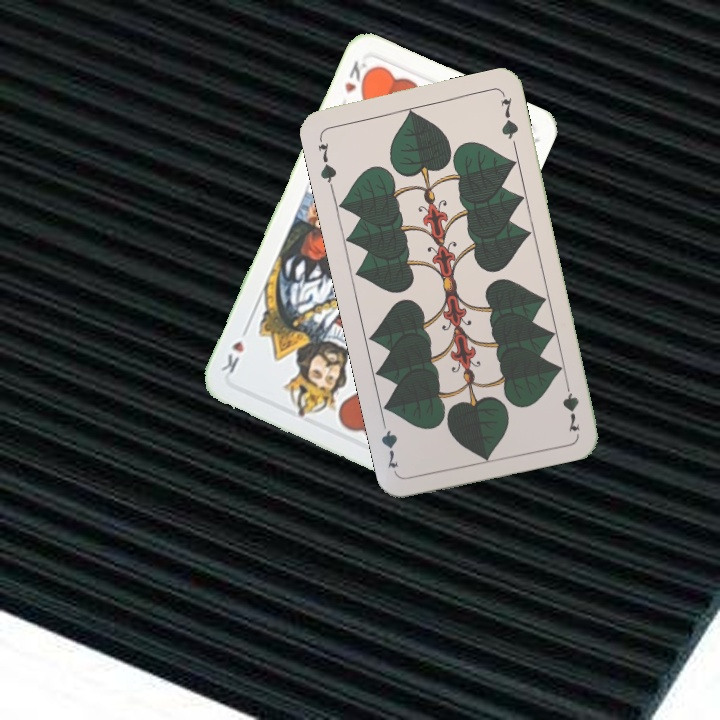G7: (313, 133, 339, 191), (558, 375, 583, 434)
HK: (340, 56, 374, 96)
